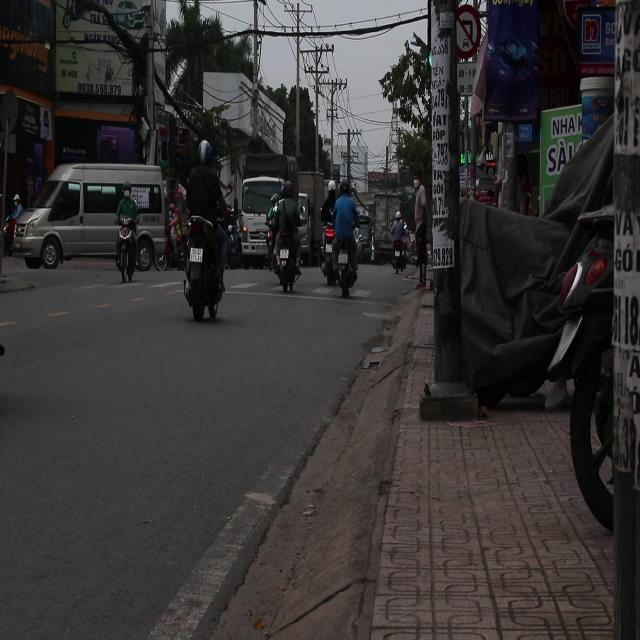car: (8, 162, 172, 275)
motorbike: (180, 212, 228, 320), (268, 198, 304, 292), (333, 234, 360, 296), (116, 215, 138, 284), (321, 233, 339, 290)
